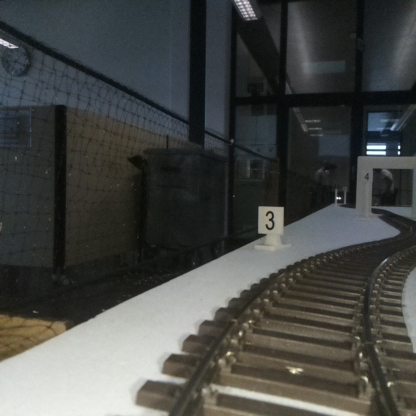white-info-4: (362, 168, 372, 222)
white-stop-3: (258, 206, 283, 250)
